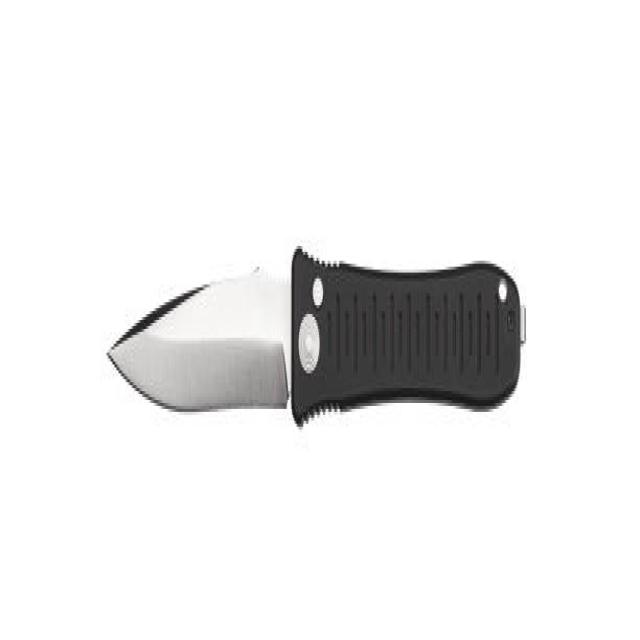knife: (101, 226, 534, 456)
